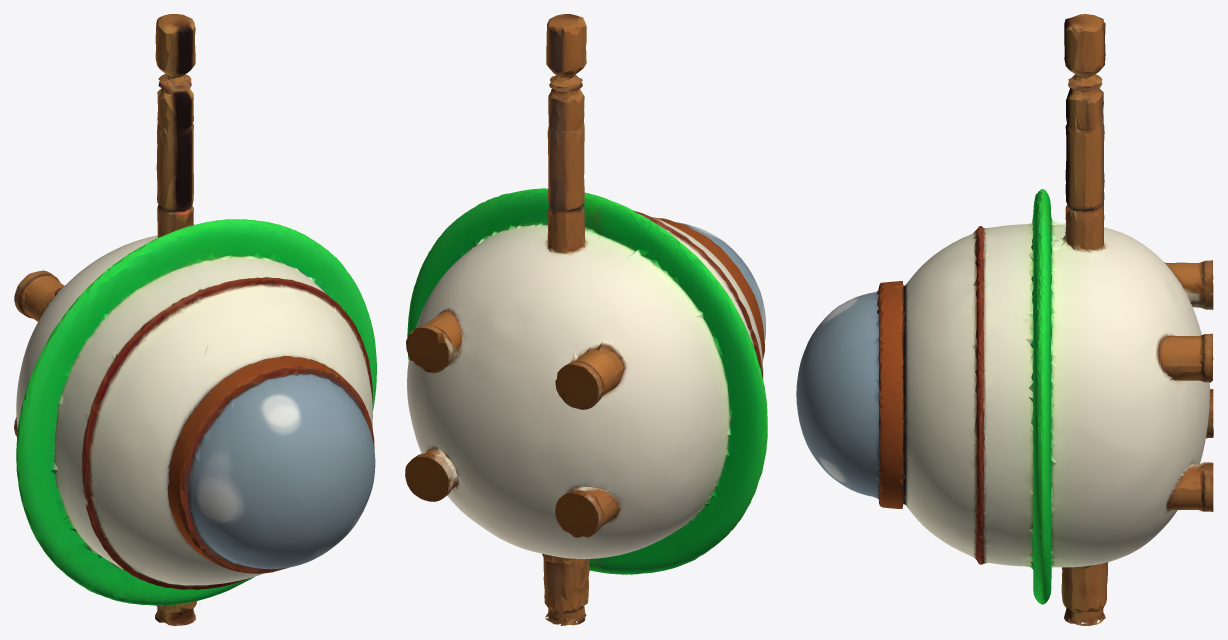
File: Station_Charging.glb
The picture shows the model from 3 angles, left to right: view 1: azimuth 30°, elevation 25°; view 2: azimuth 150°, elevation 25°; view 3: azimuth 270°, elevation 25°; orthographic projection.
Parts seen in each view (by area): view 1: Station_Charging; view 2: Station_Charging; view 3: Station_Charging.
Part boxes in pixels (x1,y1,x2,y2): Station_Charging: (14, 14, 376, 625); Station_Charging: (405, 14, 767, 625); Station_Charging: (796, 14, 1213, 625).
Size of the model in its own units: 1.13 by 1.8 by 1.14.
1 material, 1 textured.
